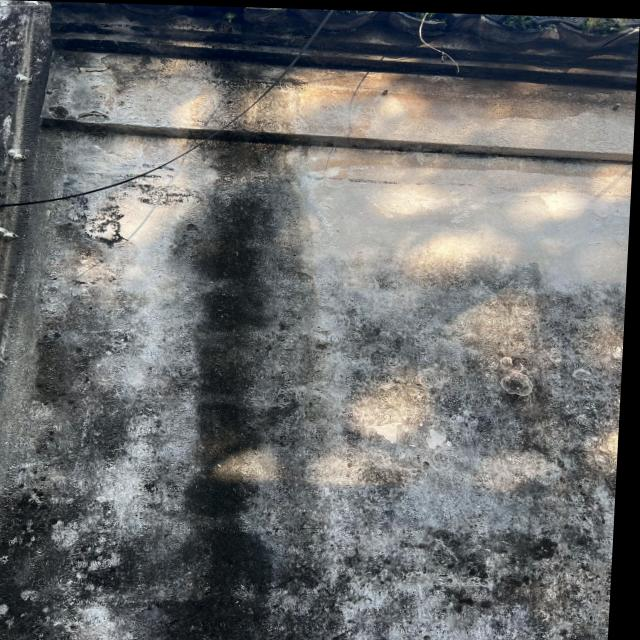mildew: (170, 152, 288, 633)
